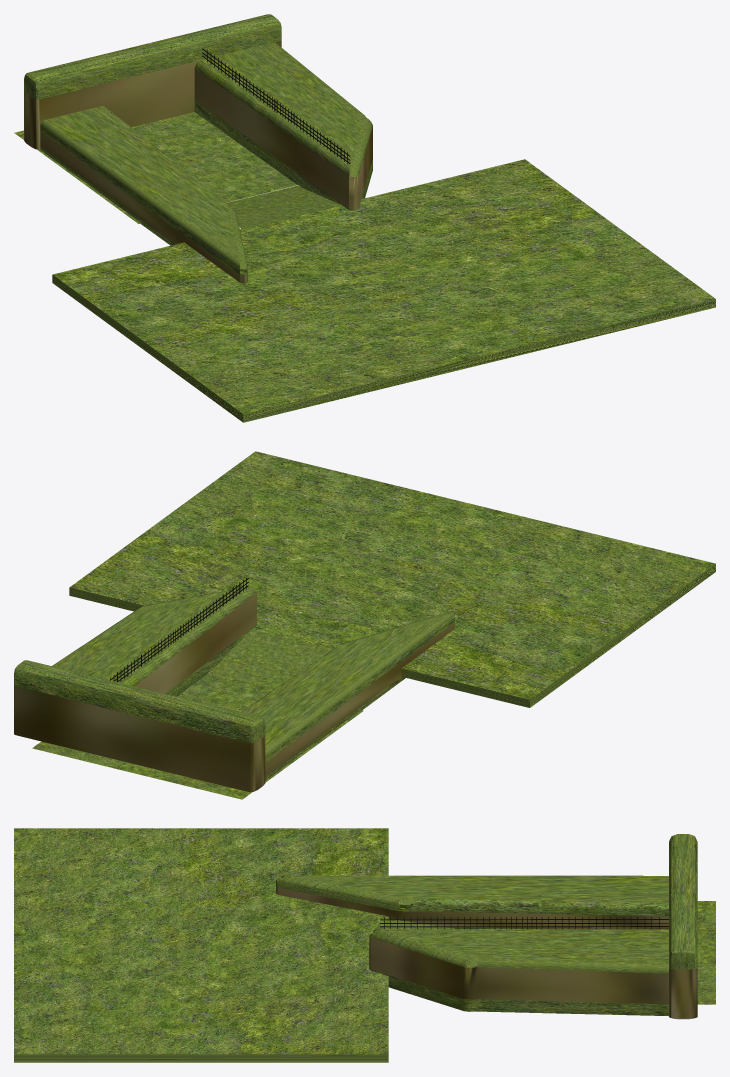
Rendered from Piso2.obj.
3 views of the same model, one above another, from view 1: azimuth 30°, elevation 25°; view 2: azimuth 150°, elevation 25°; view 3: azimuth 270°, elevation 25° (orthographic). The views are drawn at different scales.
Visible parts, largest first — view 1: Piso2:pCube5, Piso2:pCube1, Piso2:pasted__pCube1group, Piso2:pCube2, Piso2:pPlane1, Piso2:pPlane1group52, Piso2:pCube6; view 2: Piso2:pCube5, Piso2:pCube2, Piso2:pasted__pCube1group, Piso2:pCube1, Piso2:pPlane1, Piso2:pPlane1group52, Piso2:pCube6; view 3: Piso2:pCube5, Piso2:pCube1, Piso2:pasted__pCube1group, Piso2:pCube2, Piso2:pPlane1, Piso2:pCube6.
Boxes of the visible parts, x1,y1,x2,y2 form: Piso2:pCube5: [52, 159, 715, 422]; Piso2:pCube1: [194, 42, 372, 210]; Piso2:pasted__pCube1group: [40, 106, 247, 283]; Piso2:pCube2: [24, 14, 281, 149]; Piso2:pPlane1: [14, 112, 297, 223]; Piso2:pPlane1group52: [227, 185, 341, 229]; Piso2:pCube6: [202, 48, 350, 164]; Piso2:pCube5: [69, 451, 715, 707]; Piso2:pCube2: [14, 660, 265, 792]; Piso2:pasted__pCube1group: [241, 612, 454, 780]; Piso2:pCube1: [52, 587, 256, 696]; Piso2:pPlane1: [32, 673, 363, 799]; Piso2:pPlane1group52: [209, 629, 332, 688]; Piso2:pCube6: [109, 577, 248, 682]; Piso2:pCube5: [14, 828, 388, 1062]; Piso2:pCube1: [369, 929, 668, 1016]; Piso2:pasted__pCube1group: [276, 875, 668, 929]; Piso2:pCube2: [669, 834, 697, 1019]; Piso2:pPlane1: [697, 901, 715, 1004]; Piso2:pCube6: [380, 917, 668, 929].
Bounding box in the file's own units: 165 × 23.66 × 216.
14 materials, 13 textured.
